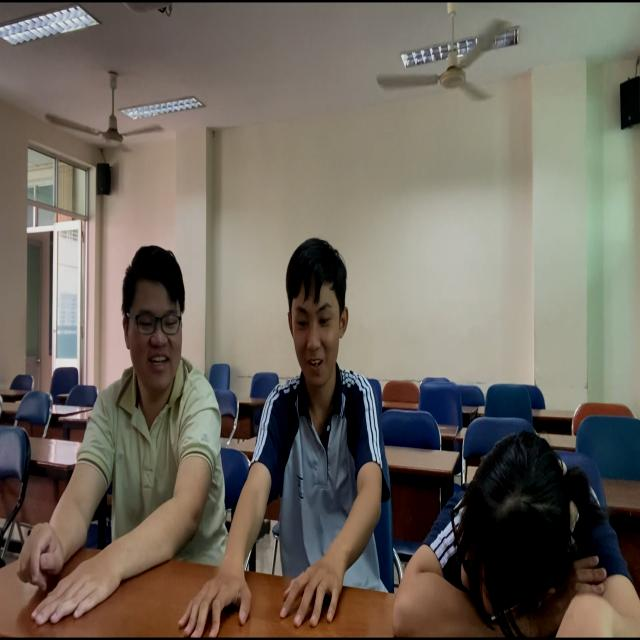sleep: (403, 422, 640, 640)
